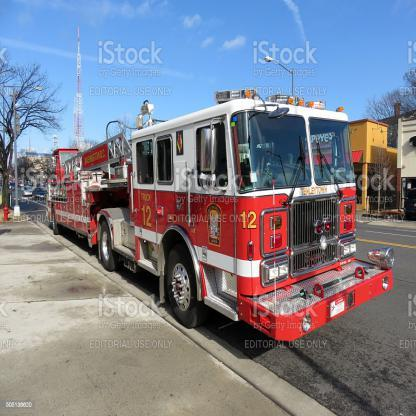fire-truck: (22, 93, 403, 354)
